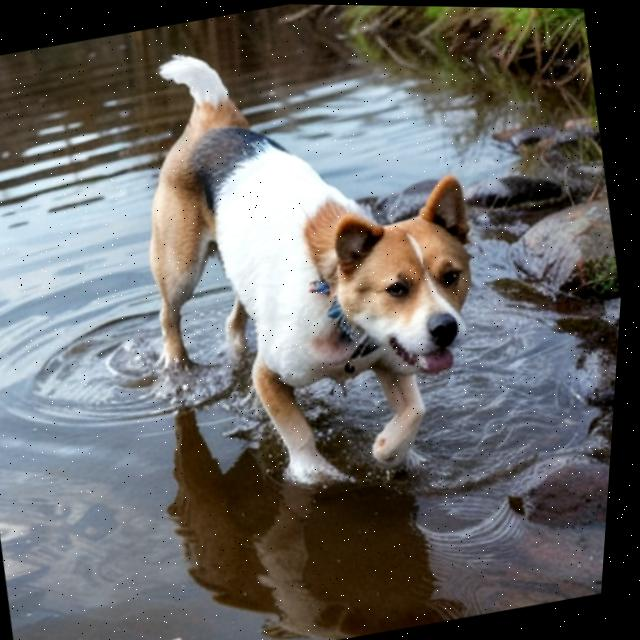dog: (77, 2, 543, 534)
